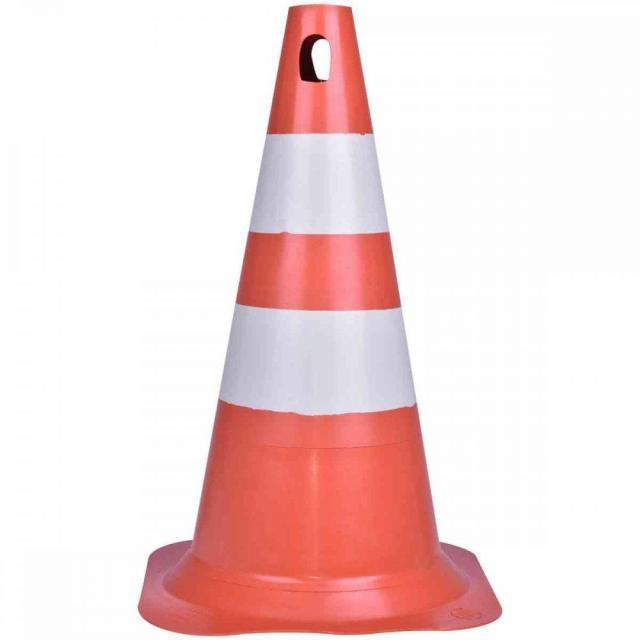traffic cone: (135, 5, 507, 639)
